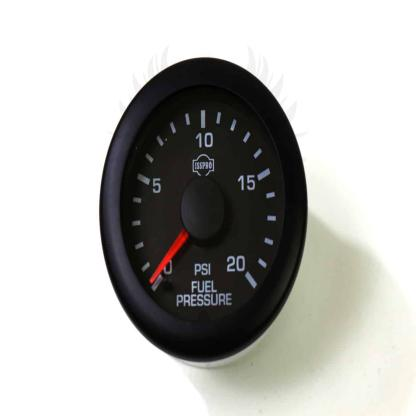needle: (148, 228, 191, 286)
